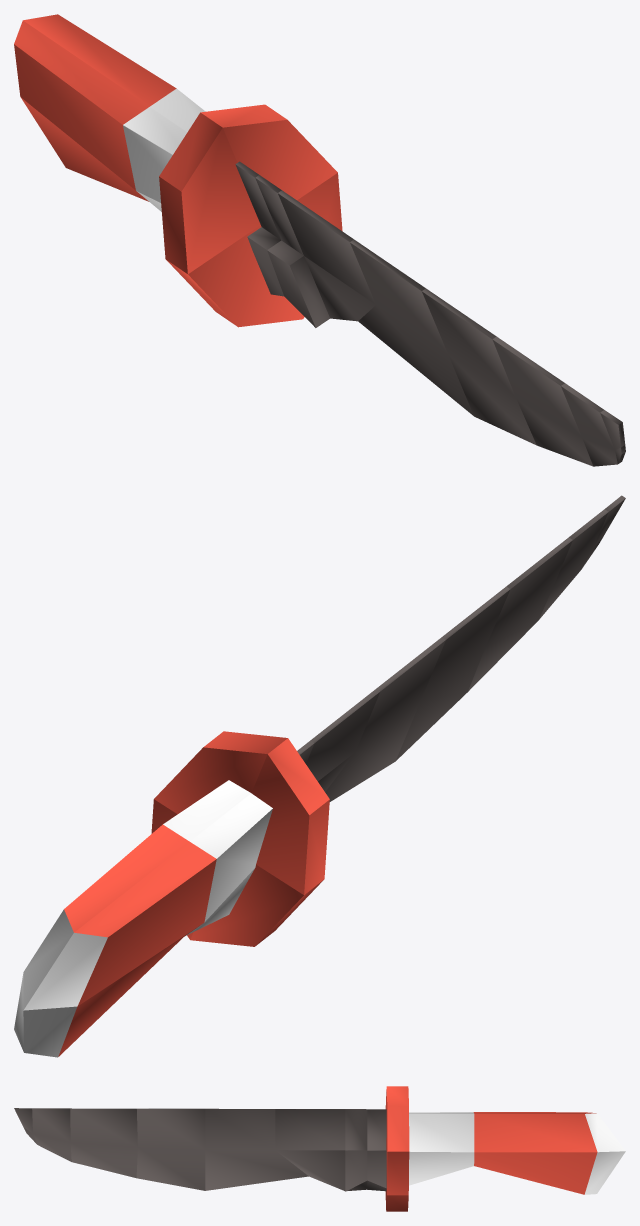
File: Dagger_1_1.fbx
3 renders of one model, top to bottom at view 1: azimuth 30°, elevation 25°; view 2: azimuth 150°, elevation 25°; view 3: azimuth 270°, elevation 25°, orthographic. The views are drawn at different scales.
Parts seen in each view (by area): view 1: Dagger_1_1; view 2: Dagger_1_1; view 3: Dagger_1_1.
Boxes of the visible parts, x1=… form: Dagger_1_1: x1=14, y1=14, x2=625, y2=466; Dagger_1_1: x1=14, y1=495, x2=625, y2=1057; Dagger_1_1: x1=14, y1=1086, x2=625, y2=1211.
Bounding box in the file's own units: 7.17 × 8.79 × 45.98.
